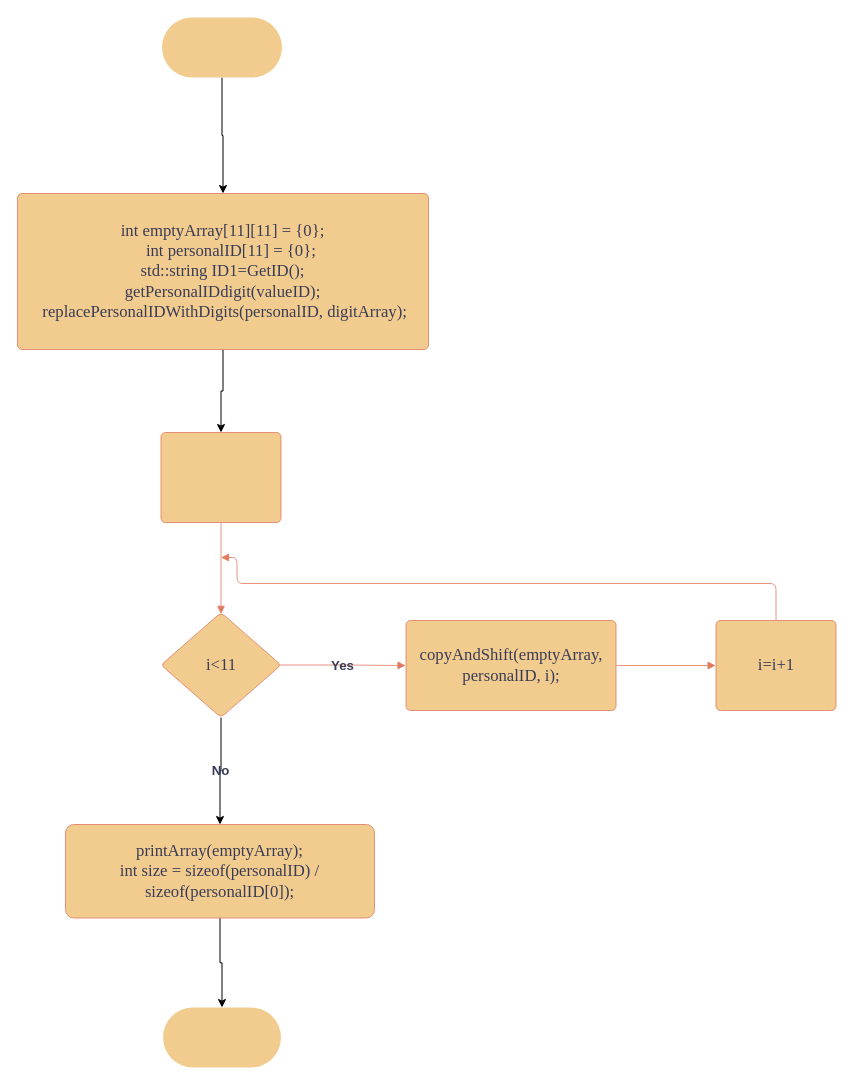
The diagram is 854 pixels wide and 1085 high, and some of its shapes have lost their labels. Each missing label, with the centre of its shape:
"end" belongs at pixel 221 1037.
"i=0" belongs at pixel 220 477.
"Start" belongs at pixel 221 47.
